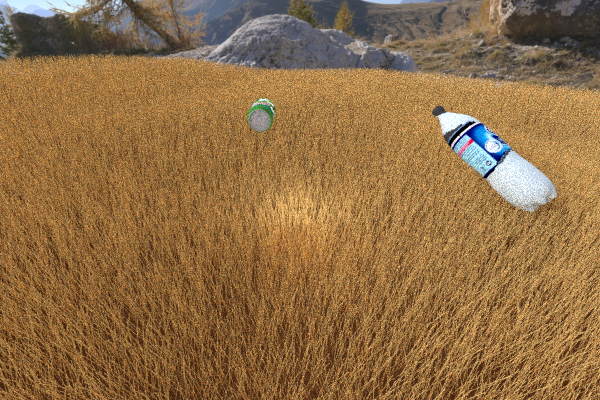Plastic Bottle: (432, 105, 559, 213), (0, 93, 47, 132), (343, 91, 386, 115)
